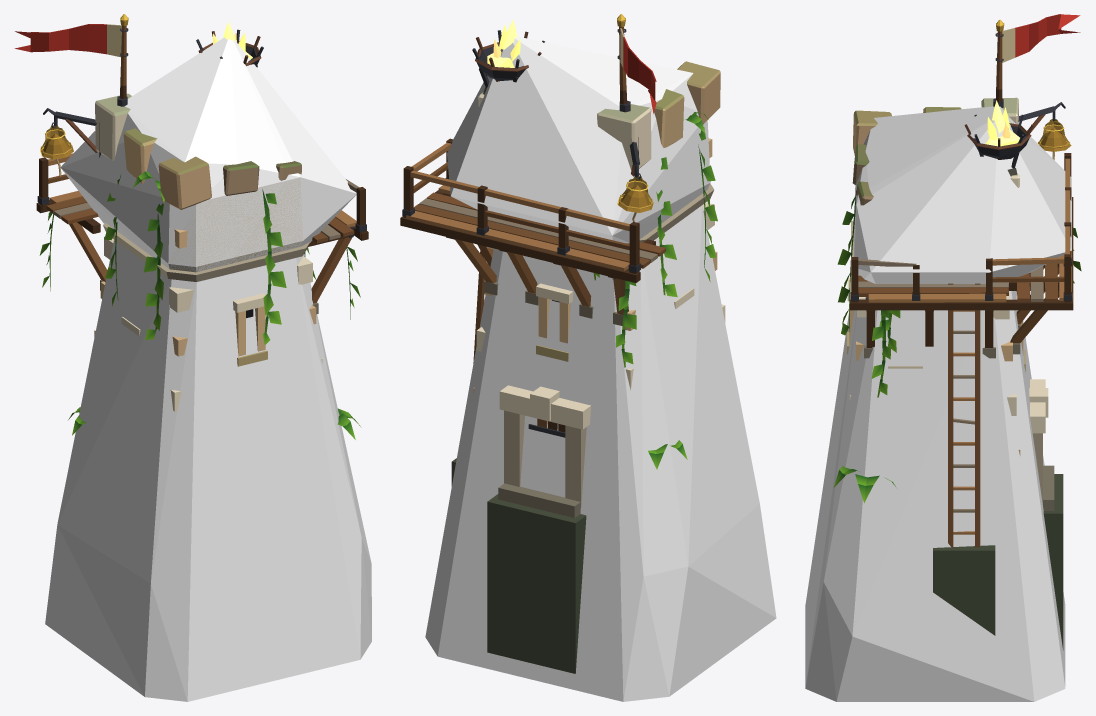
The model's file is fort_coastal_watchtower_ruin.glb.
3 views of the same model, side by side, from view 1: azimuth 30°, elevation 25°; view 2: azimuth 150°, elevation 25°; view 3: azimuth 270°, elevation 25° (orthographic). The views are drawn at different scales.
Parts seen in each view (by area): view 1: col_tower_base, col_tower_upper, FortCoastalWatchtowerRuin; view 2: col_tower_base, FortCoastalWatchtowerRuin, col_tower_upper; view 3: col_tower_base, FortCoastalWatchtowerRuin, col_tower_upper.
Part boxes in pixels (x1=…): col_tower_base: x1=45, y1=239, x2=371, y2=701; col_tower_upper: x1=60, y1=37, x2=356, y2=272; FortCoastalWatchtowerRuin: x1=14, y1=14, x2=368, y2=439; col_tower_base: x1=425, y1=205, x2=776, y2=701; FortCoastalWatchtowerRuin: x1=400, y1=14, x2=725, y2=673; col_tower_upper: x1=447, y1=36, x2=710, y2=243; col_tower_base: x1=805, y1=291, x2=1065, y2=701; FortCoastalWatchtowerRuin: x1=833, y1=14, x2=1081, y2=650; col_tower_upper: x1=854, y1=106, x2=1071, y2=283.
Size of the model in its own units: 7 by 16.66 by 6.92.
